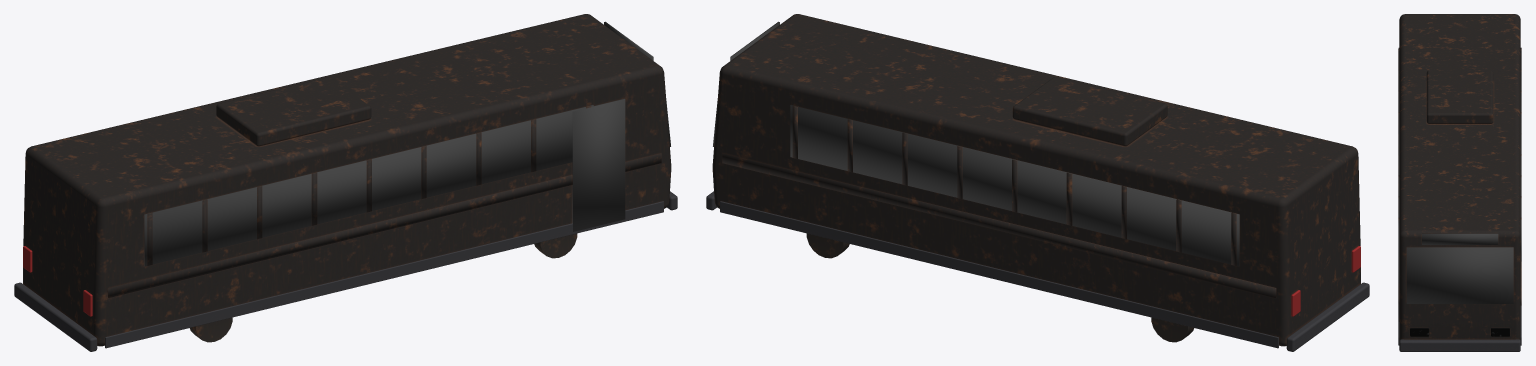
File: autobus_quemado.glb
The picture shows the model from 3 angles, left to right: view 1: azimuth 30°, elevation 25°; view 2: azimuth 150°, elevation 25°; view 3: azimuth 270°, elevation 25°; orthographic projection. The views are drawn at different scales.
Parts seen in each view (by area): view 1: autobus_quemado; view 2: autobus_quemado; view 3: autobus_quemado.
Boxes of the visible parts, left/top/right/bottom form: autobus_quemado: left=14, top=14, right=677, bottom=351; autobus_quemado: left=706, top=14, right=1369, bottom=351; autobus_quemado: left=1398, top=14, right=1521, bottom=351.
Size of the model in its own units: 11.27 by 3.36 by 2.59.
2 materials, 1 textured.
